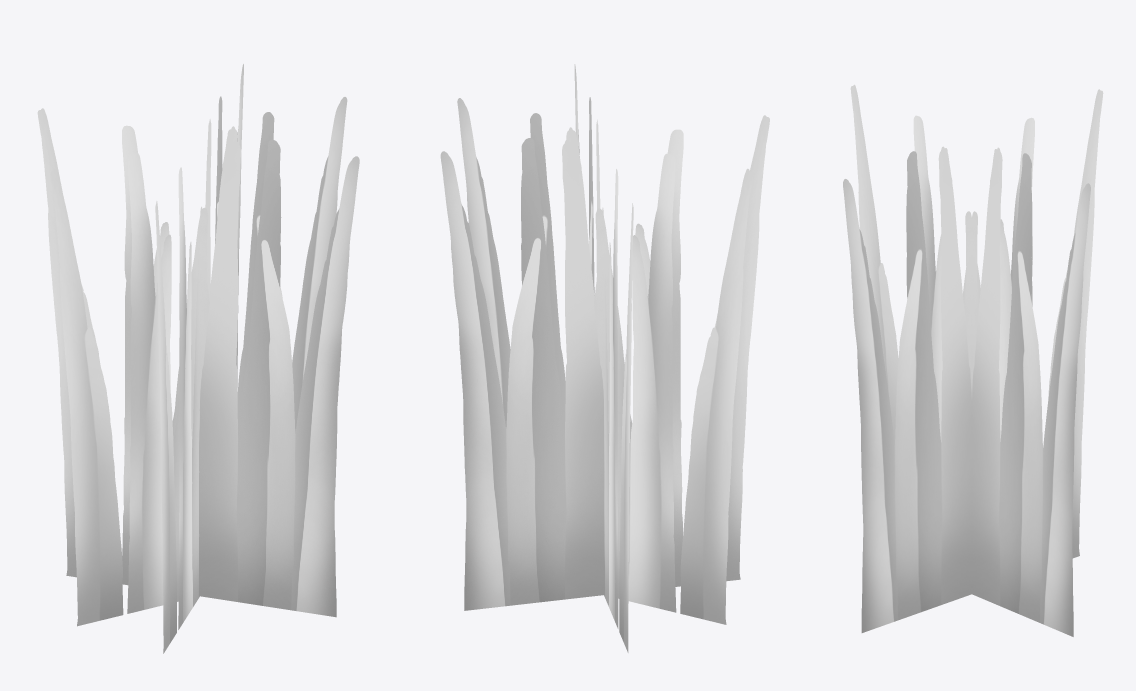
Rendered from High Grass Normals.FBX.
3 views of the same model, side by side, from view 1: azimuth 30°, elevation 25°; view 2: azimuth 150°, elevation 25°; view 3: azimuth 270°, elevation 25° (orthographic).
Parts seen in each view (by area): view 1: Object009; view 2: Object009; view 3: Object009.
Boxes of the visible parts, x1,y1,x2,y2 form: Object009: (37,64,359,653); Object009: (440,64,769,652); Object009: (843,84,1103,636).
Bounding box in the file's own units: 8.46 × 11.86 × 6.48.
